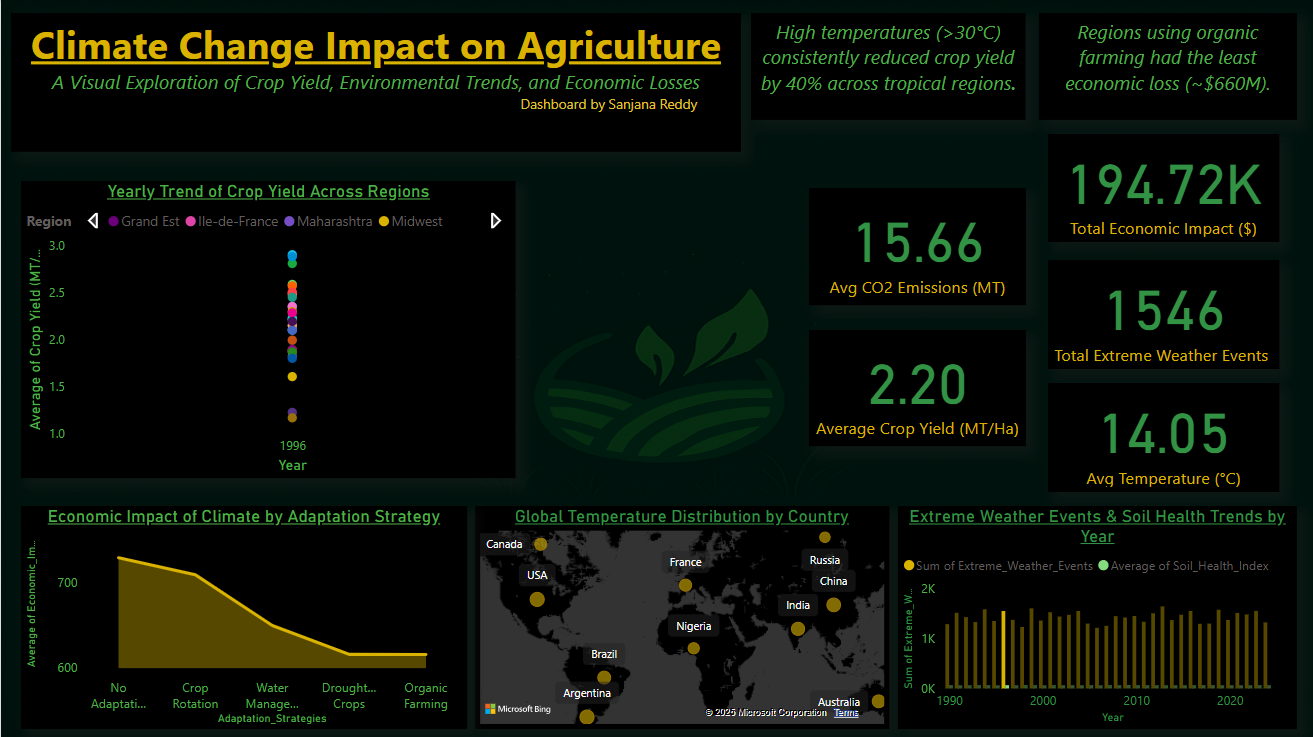

Layout of this report page (visuals, bound fields, positions):
{"tool":"powerbi","page":{"name":"Page 1","canvas":[1280,720],"ordinal":0},"visuals":[{"type":"card","fields":{"Values":["Cleaned_Climate_Change_Impact_Agriculture.Average Crop Yield"]},"box":[785.9,321.9,211.1,112.8],"z":0},{"type":"card","fields":{"Values":["Cleaned_Climate_Change_Impact_Agriculture.Avg CO2 Emissions"]},"box":[785.9,183.8,211.1,113.8],"z":1000},{"type":"card","fields":{"Values":["Cleaned_Climate_Change_Impact_Agriculture.Extreme Events Total"]},"box":[1018.4,253.9,224.7,106],"z":2000},{"type":"card","fields":{"Values":["Cleaned_Climate_Change_Impact_Agriculture.Avg Temperature"]},"box":[1018.4,373.5,224.7,106],"z":3000},{"type":"card","fields":{"Values":["Cleaned_Climate_Change_Impact_Agriculture.Total Economic Impact"]},"box":[1018.4,131.3,224.7,105],"z":4000},{"type":"map","title":"Global Temperature Distribution by Country","fields":{"Category":["Cleaned_Climate_Change_Impact_Agriculture.Country"],"Size":["Avg(Cleaned_Climate_Change_Impact_Agriculture.Avg Temperature (°C))"]},"box":[461,493.1,402.7,216.9],"z":5000},{"type":"lineChart","title":"Yearly Trend of Crop Yield Across Regions","fields":{"Category":["Cleaned_Climate_Change_Impact_Agriculture.Year"],"Y":["Avg(Cleaned_Climate_Change_Impact_Agriculture.Crop Yield (MT/Ha))"],"Series":["Cleaned_Climate_Change_Impact_Agriculture.Region"]},"box":[19.5,177,481.5,288.9],"z":6000},{"type":"clusteredColumnChart","title":"Extreme Weather Events & Soil Health Trends by Year","fields":{"Category":["Cleaned_Climate_Change_Impact_Agriculture.Year"],"Y":["Sum(Cleaned_Climate_Change_Impact_Agriculture.Extreme_Weather_Events)","Avg(Cleaned_Climate_Change_Impact_Agriculture.Soil_Health_Index)"]},"box":[872.5,493.1,388.1,216.9],"z":7000},{"type":"stackedAreaChart","title":"Economic Impact of Climate by Adaptation Strategy","fields":{"Category":["Cleaned_Climate_Change_Impact_Agriculture.Adaptation_Strategies"],"Y":["Avg(Cleaned_Climate_Change_Impact_Agriculture.Economic_Impact_Million_USD)"]},"box":[19.5,493.1,433.8,216.9],"z":8000},{"type":"textbox","title":"Climate Change Impact on Agriculture","box":[9.7,13.6,710,135.2],"z":9000},{"type":"textbox","box":[729.5,13.6,267.5,104.1],"z":9001},{"type":"textbox","box":[1009.6,13.6,250.9,104.1],"z":9002}]}

Visuals, with their boxes in screenshot pixels (x1, y1, x2, y2), scaled from the page's 1280x720 canvas onto the 1313x737 screenshot:
card - Cleaned_Climate_Change_Impact_Agriculture.Average Crop Yield: <box>806,330,1023,445</box>
card - Cleaned_Climate_Change_Impact_Agriculture.Avg CO2 Emissions: <box>806,188,1023,305</box>
card - Cleaned_Climate_Change_Impact_Agriculture.Extreme Events Total: <box>1045,260,1275,368</box>
card - Cleaned_Climate_Change_Impact_Agriculture.Avg Temperature: <box>1045,382,1275,491</box>
card - Cleaned_Climate_Change_Impact_Agriculture.Total Economic Impact: <box>1045,134,1275,242</box>
"Global Temperature Distribution by Country" map: <box>473,505,886,727</box>
"Yearly Trend of Crop Yield Across Regions" lineChart: <box>20,181,514,477</box>
"Extreme Weather Events & Soil Health Trends by Year" clusteredColumnChart: <box>895,505,1293,727</box>
"Economic Impact of Climate by Adaptation Strategy" stackedAreaChart: <box>20,505,465,727</box>
"Climate Change Impact on Agriculture" textbox: <box>10,14,738,152</box>
textbox: <box>748,14,1023,120</box>
textbox: <box>1036,14,1293,120</box>
